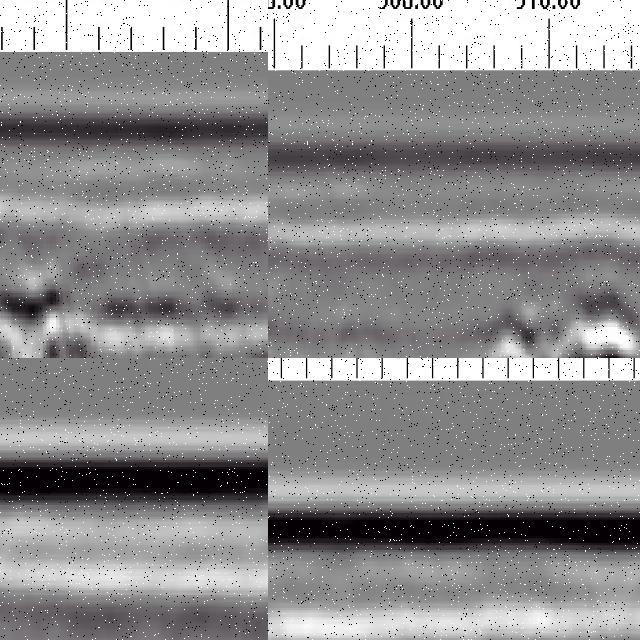loose: (483, 280, 640, 359), (1, 269, 78, 359)
